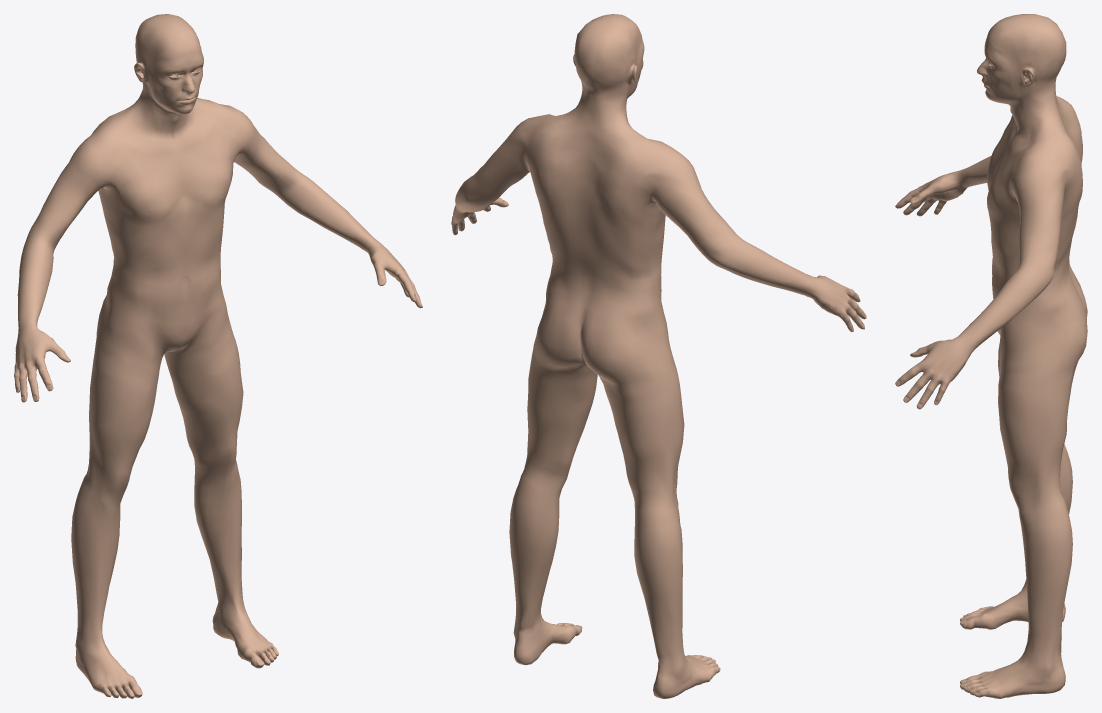
The model's file is male.glb.
The picture shows the model from 3 angles, left to right: view 1: azimuth 30°, elevation 25°; view 2: azimuth 150°, elevation 25°; view 3: azimuth 270°, elevation 25°; orthographic projection.
Parts seen in each view (by area): view 1: Body; view 2: Body; view 3: Body.
Boxes of the visible parts, box(x1,y1,x2,y2) form: Body: box(14, 14, 422, 698); Body: box(451, 14, 866, 698); Body: box(895, 14, 1087, 698).
Size of the model in its own units: 1.17 by 1.8 by 0.4896.
